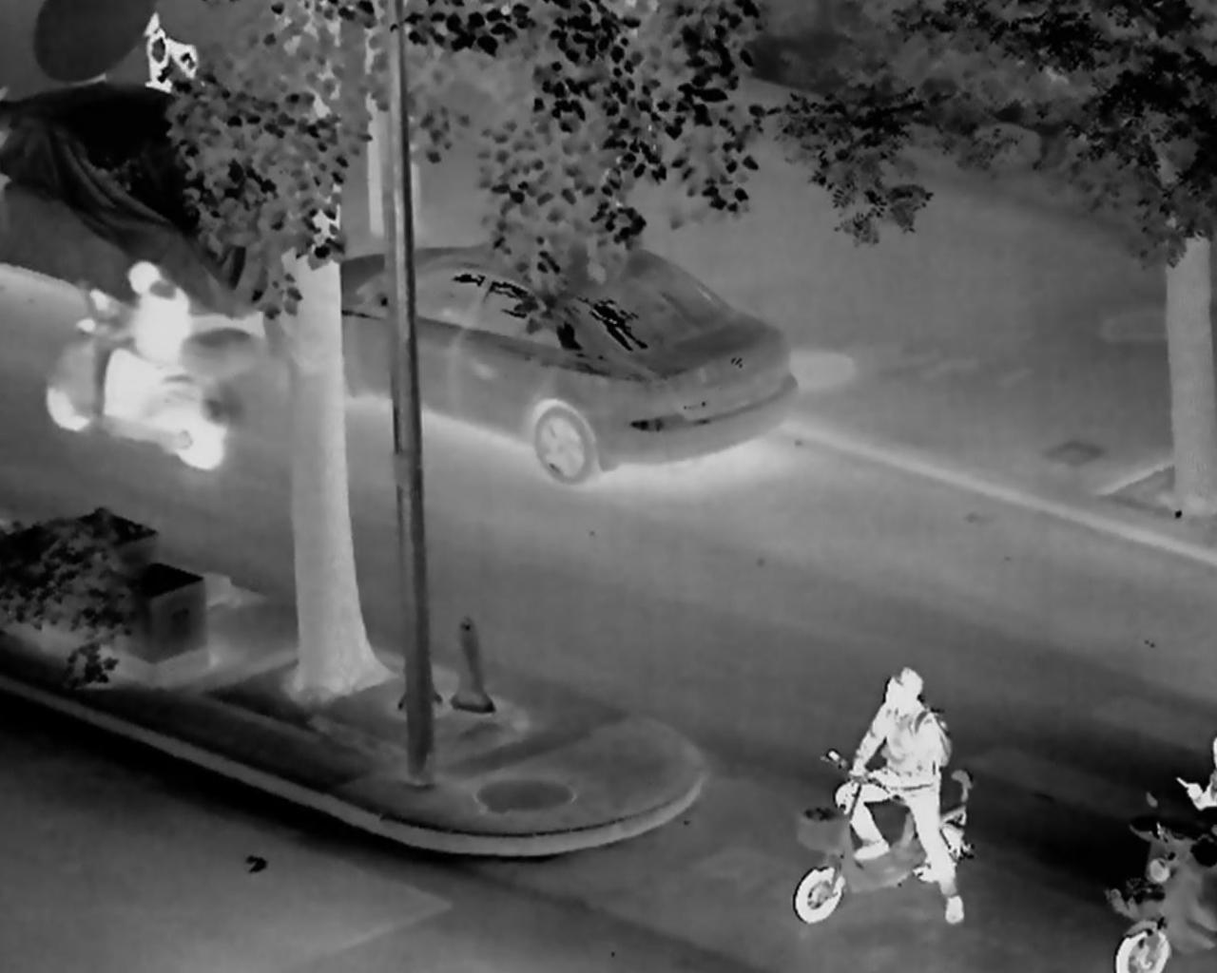person: (842, 668, 968, 925), (79, 258, 190, 429)
